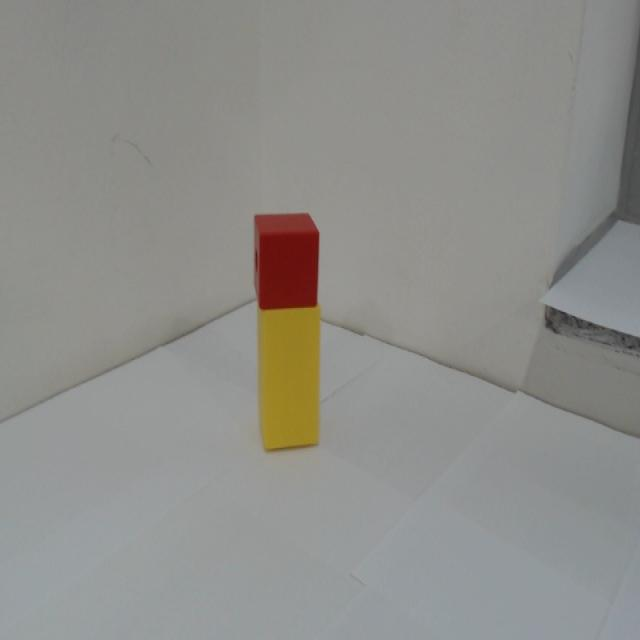cube: (249, 211, 324, 308)
